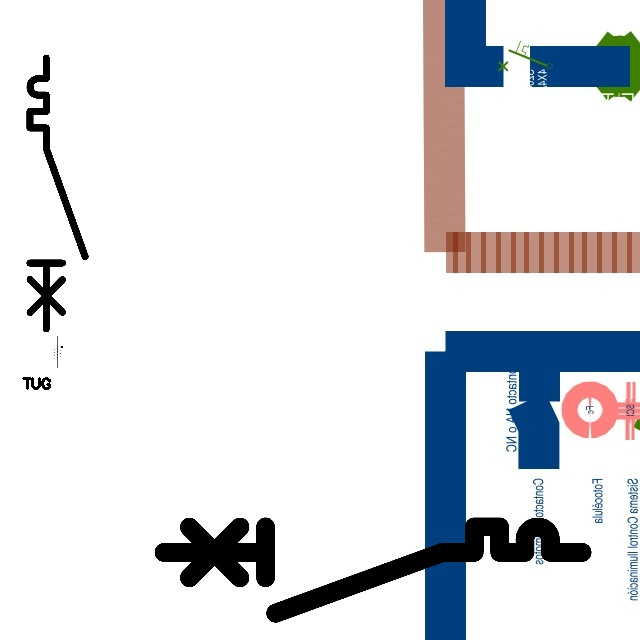interruptor_termomagnetico: (153, 516, 593, 623), (23, 51, 92, 336)
